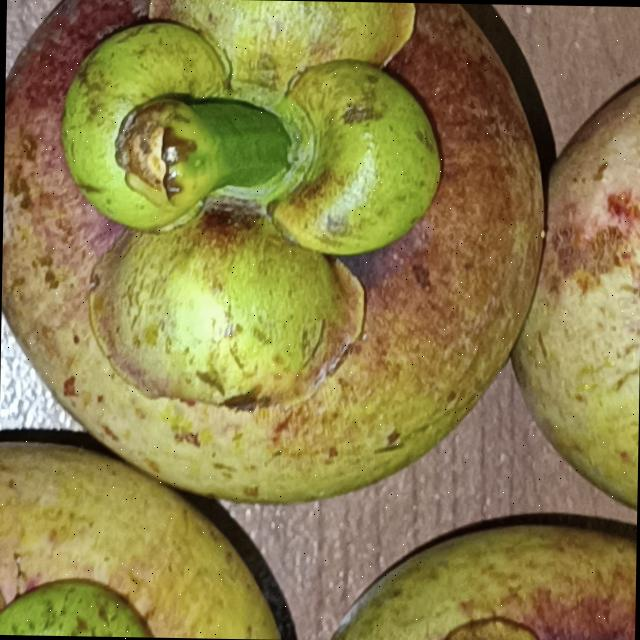mangosteen: (0, 0, 568, 531), (0, 416, 321, 640), (518, 3, 640, 557)
